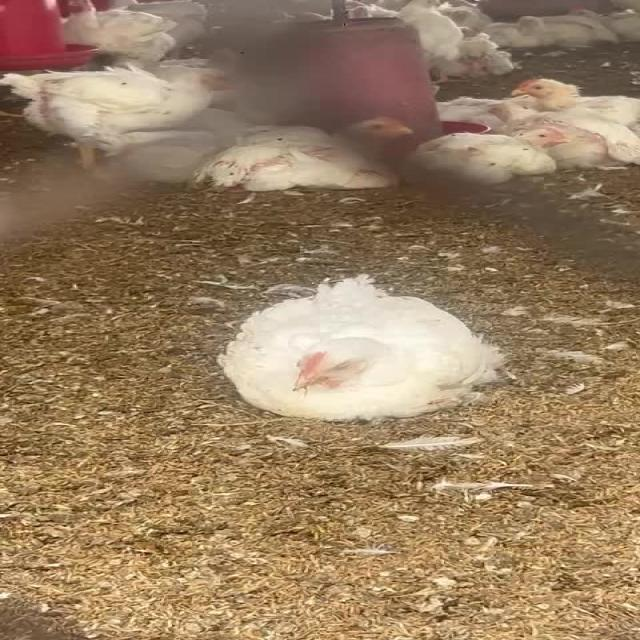AbNormal: (215, 274, 492, 414), (20, 62, 250, 141), (222, 112, 414, 192), (511, 71, 640, 151), (421, 126, 561, 183)
